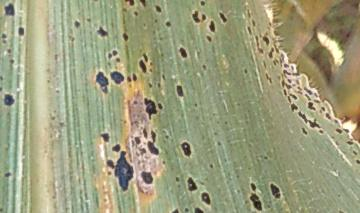tarspot: (112, 149, 135, 192), (296, 110, 321, 129), (142, 97, 158, 121), (248, 191, 263, 213), (267, 181, 282, 200), (253, 33, 264, 57), (93, 70, 109, 86), (109, 69, 124, 86), (178, 140, 192, 158), (145, 140, 160, 156), (185, 175, 198, 193), (139, 170, 154, 185), (198, 190, 212, 206), (95, 24, 109, 38), (3, 2, 16, 17), (2, 92, 15, 107), (190, 9, 202, 24), (216, 10, 228, 25), (98, 131, 111, 144), (137, 58, 147, 73), (174, 83, 184, 98), (270, 38, 280, 53), (280, 67, 292, 79), (177, 46, 188, 58), (260, 34, 270, 47), (306, 100, 316, 113), (208, 19, 216, 35), (148, 128, 157, 142), (140, 126, 149, 139), (110, 143, 121, 153), (105, 158, 115, 169), (289, 102, 299, 113), (264, 71, 272, 84), (267, 46, 275, 59), (16, 26, 26, 36), (99, 85, 109, 95), (298, 126, 308, 136), (345, 137, 355, 147), (287, 92, 299, 100), (153, 4, 162, 14), (303, 86, 312, 96), (121, 31, 129, 42), (245, 25, 253, 36), (192, 206, 204, 213), (204, 34, 213, 43), (302, 92, 311, 101), (130, 71, 138, 81), (141, 52, 149, 62), (248, 181, 256, 191), (323, 111, 331, 121), (122, 1, 135, 7), (194, 47, 201, 58), (200, 12, 207, 23), (3, 170, 12, 178), (72, 19, 80, 28), (133, 135, 141, 144), (168, 207, 180, 213), (334, 127, 343, 135), (137, 1, 147, 8), (245, 8, 252, 18), (249, 17, 256, 27), (285, 94, 292, 104), (311, 97, 321, 104), (278, 52, 284, 63), (271, 58, 279, 66), (284, 82, 292, 90), (156, 101, 163, 110), (159, 72, 166, 81), (57, 120, 65, 127), (140, 146, 147, 154), (132, 119, 139, 127), (146, 81, 153, 89), (111, 48, 118, 56), (282, 62, 290, 69), (293, 78, 301, 85), (316, 128, 324, 135), (318, 104, 325, 112), (342, 127, 350, 134), (156, 80, 162, 89), (106, 51, 112, 60), (261, 59, 267, 68), (279, 79, 285, 88), (281, 88, 287, 97), (294, 89, 303, 95), (8, 57, 15, 64), (106, 169, 113, 176), (125, 75, 132, 82), (164, 20, 171, 27), (215, 140, 222, 147), (262, 154, 269, 161), (285, 77, 292, 84), (311, 90, 318, 97), (84, 17, 92, 23), (200, 63, 206, 71), (351, 148, 357, 156), (1, 32, 7, 39), (6, 47, 12, 54), (49, 114, 56, 120), (163, 134, 170, 140), (174, 175, 180, 182), (120, 6, 127, 12), (208, 162, 214, 169), (212, 130, 219, 136), (222, 119, 228, 126), (183, 206, 189, 213), (243, 198, 249, 205), (242, 67, 248, 74), (199, 1, 206, 7), (332, 117, 338, 124), (354, 158, 360, 165), (337, 207, 344, 213), (53, 53, 58, 61), (1, 38, 7, 44), (160, 159, 166, 165), (131, 99, 137, 105), (114, 56, 120, 62), (132, 10, 138, 16), (234, 188, 240, 194), (265, 203, 271, 209), (333, 140, 339, 146), (344, 32, 350, 38), (54, 88, 61, 93), (51, 193, 56, 200), (66, 33, 71, 40), (252, 69, 257, 76), (257, 31, 262, 38), (329, 134, 336, 139), (121, 118, 127, 123), (127, 82, 132, 88), (152, 18, 158, 23), (215, 119, 220, 125), (289, 64, 294, 70), (211, 111, 215, 118), (45, 78, 50, 83), (176, 183, 181, 188), (106, 61, 111, 66), (148, 67, 153, 72), (147, 60, 152, 65), (141, 22, 146, 27), (159, 51, 164, 56), (235, 173, 240, 178), (296, 85, 301, 90), (102, 197, 107, 202), (193, 102, 197, 108), (267, 20, 271, 26), (1, 206, 4, 213), (70, 36, 74, 41), (236, 102, 241, 106), (336, 192, 340, 197), (1, 74, 3, 82), (91, 1, 99, 3), (1, 85, 3, 92)
